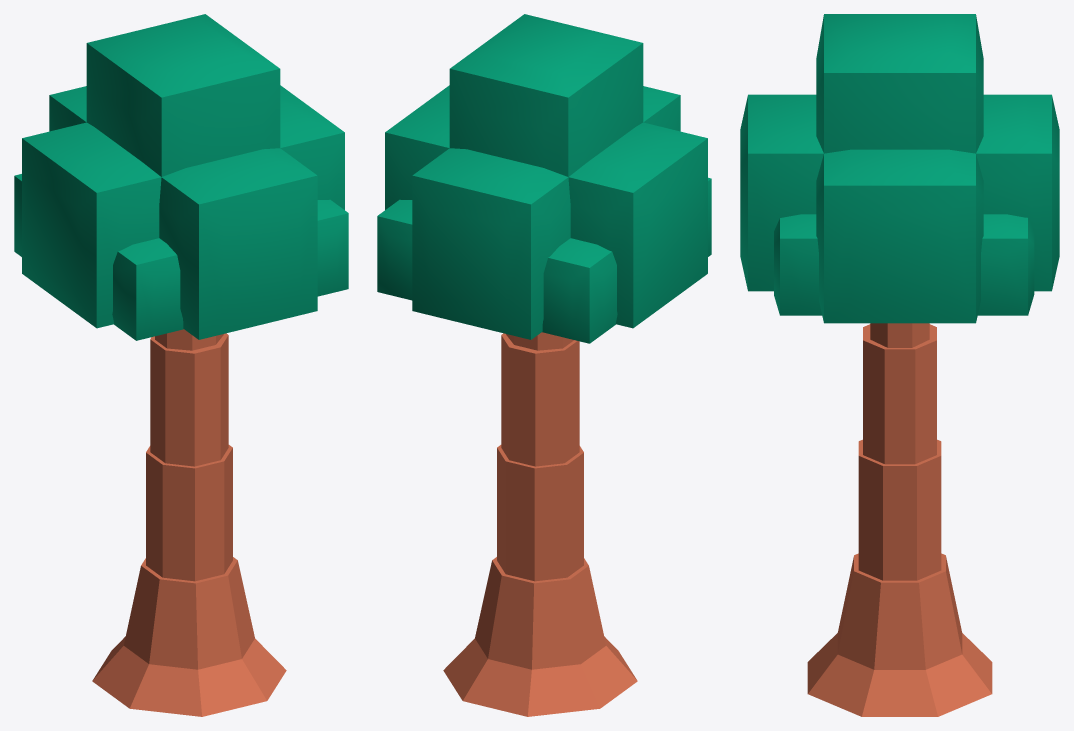
3 views of the same model, side by side, from view 1: azimuth 30°, elevation 25°; view 2: azimuth 150°, elevation 25°; view 3: azimuth 270°, elevation 25° (orthographic).
Visible parts, largest first — view 1: mergedBlocks; view 2: mergedBlocks; view 3: mergedBlocks.
Boxes of the visible parts, x1,y1,x2,y2 form: mergedBlocks: (14,14,348,716); mergedBlocks: (377,14,711,716); mergedBlocks: (740,14,1059,716).
Size of the model in its own units: 12.05 by 27.94 by 12.6.
